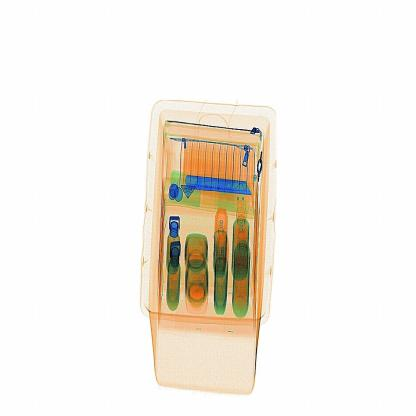pliers: (185, 173, 256, 199)
